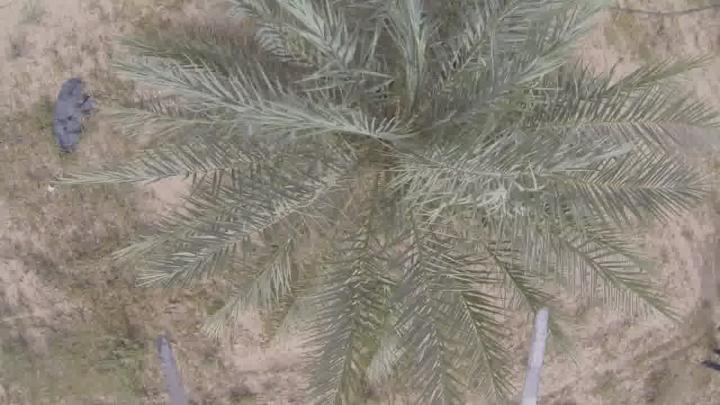Date-Palm-Crown: (240, 5, 540, 287)
